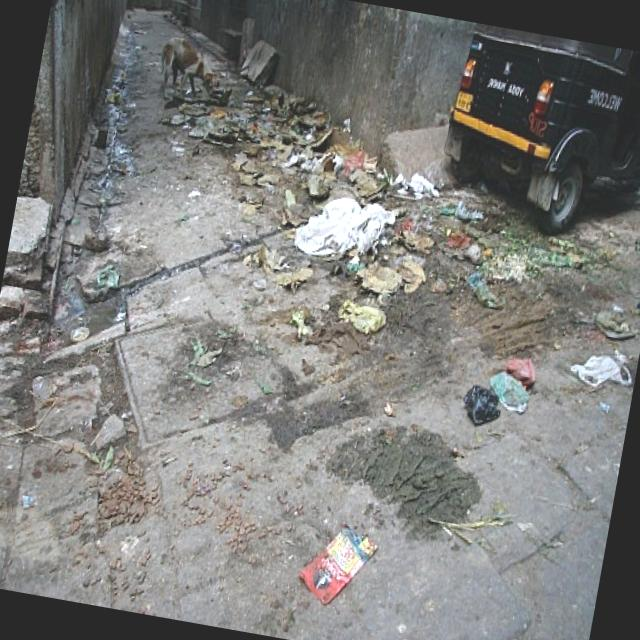garbage: (178, 41, 548, 352)
